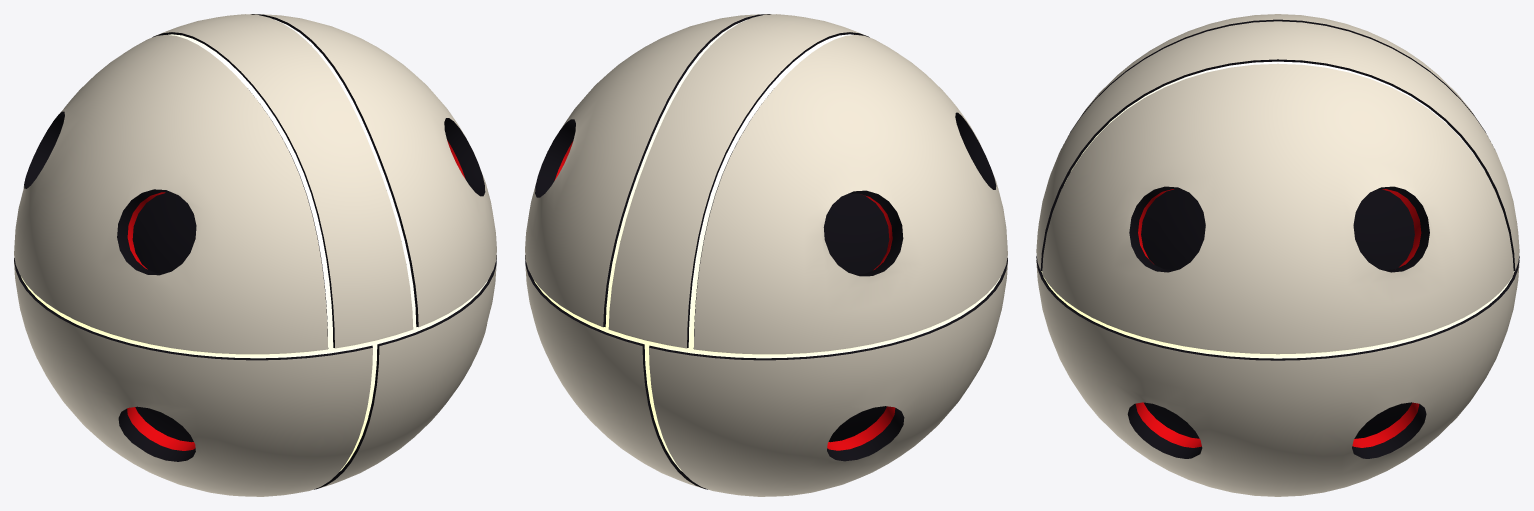
The model's file is corpo.fbx.
The picture shows the model from 3 angles, left to right: view 1: azimuth 30°, elevation 25°; view 2: azimuth 150°, elevation 25°; view 3: azimuth 270°, elevation 25°; orthographic projection.
Parts seen in each view (by area): view 1: Corpinho; view 2: Corpinho; view 3: Corpinho.
Part boxes in pixels (box(x1,y1,x2,y2)): Corpinho: box(14, 14, 496, 496); Corpinho: box(525, 14, 1007, 496); Corpinho: box(1036, 14, 1519, 496).
Bounding box in the file's own units: 15.5 × 15.5 × 15.5.
